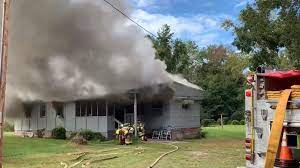smoke: (2, 1, 199, 100)
